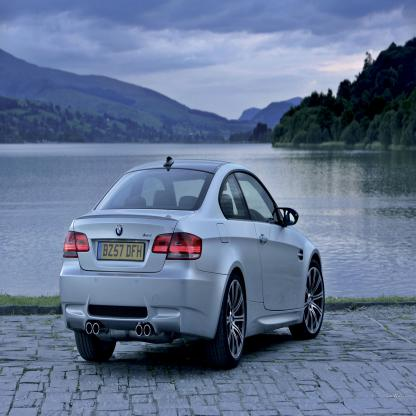Vehicle: (60, 158, 326, 370)
